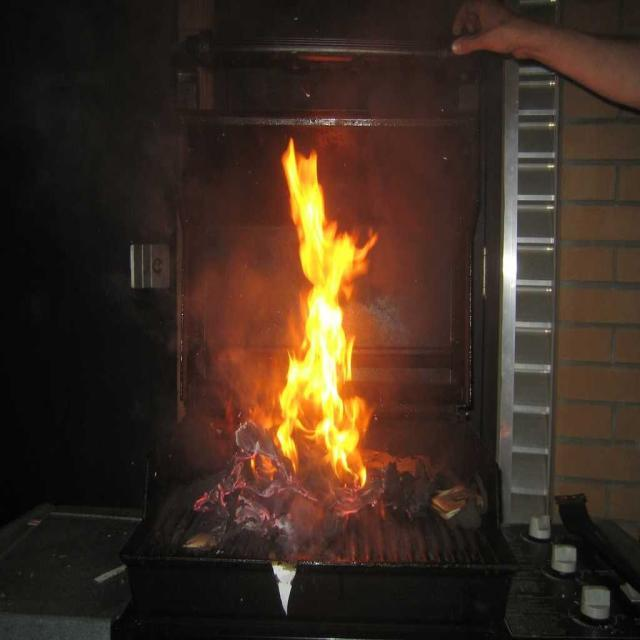Fire: (308, 312, 338, 436), (292, 156, 316, 238), (302, 247, 348, 276)
